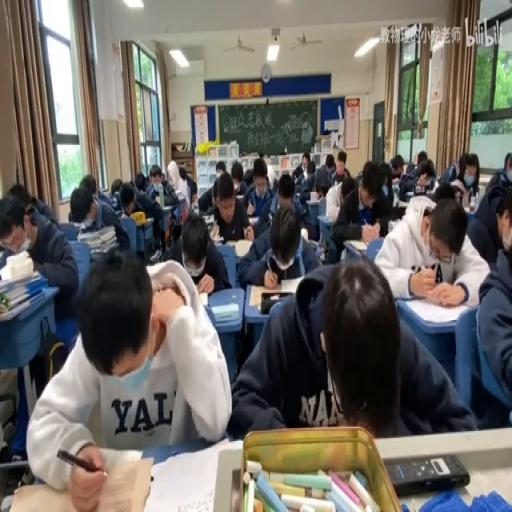calculator: (144, 441, 231, 510), (401, 293, 473, 326), (248, 282, 302, 308), (0, 266, 41, 292), (210, 300, 238, 322), (317, 212, 333, 240), (171, 195, 187, 222), (233, 236, 253, 256), (90, 245, 116, 260), (344, 239, 366, 252), (209, 222, 219, 242), (223, 240, 237, 252), (318, 196, 326, 216), (202, 213, 214, 225), (197, 290, 207, 304), (152, 180, 162, 194), (158, 202, 174, 210), (306, 196, 320, 205), (462, 205, 477, 213), (248, 215, 258, 226), (403, 189, 414, 199), (174, 189, 184, 199), (142, 216, 153, 225), (190, 202, 198, 213), (235, 192, 245, 199), (390, 178, 398, 186)
paper: (27, 245, 227, 492), (229, 254, 470, 436), (3, 189, 80, 320), (237, 199, 318, 289), (328, 161, 394, 260), (70, 182, 128, 257), (466, 171, 512, 263), (200, 169, 252, 245), (397, 154, 435, 199), (438, 150, 476, 188), (310, 152, 336, 196), (30, 192, 57, 222), (177, 164, 196, 206), (135, 168, 157, 198), (380, 164, 394, 206), (276, 174, 294, 204), (238, 159, 254, 192), (78, 173, 96, 202), (160, 176, 178, 205), (434, 181, 456, 202), (292, 154, 308, 182), (8, 181, 27, 202), (120, 188, 134, 213), (341, 176, 354, 202), (376, 216, 390, 238), (110, 176, 122, 199), (266, 162, 276, 188), (214, 160, 226, 174), (417, 149, 427, 165), (502, 152, 510, 172), (336, 155, 346, 169), (456, 162, 466, 176), (394, 162, 404, 175), (405, 162, 414, 175), (308, 162, 314, 176), (160, 174, 166, 184), (303, 159, 308, 168)
person: (386, 452, 470, 494), (228, 466, 241, 510), (392, 205, 408, 220), (318, 239, 328, 263), (24, 200, 35, 214), (215, 235, 224, 243)
